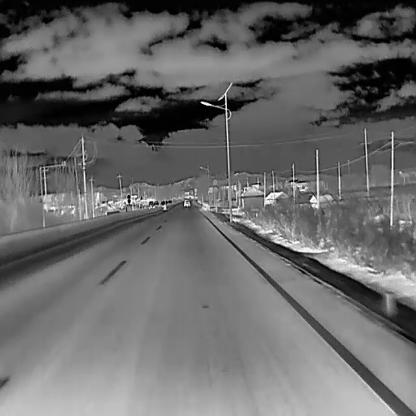car: (182, 198, 191, 206), (148, 200, 154, 209), (160, 200, 166, 207), (154, 200, 158, 208)
